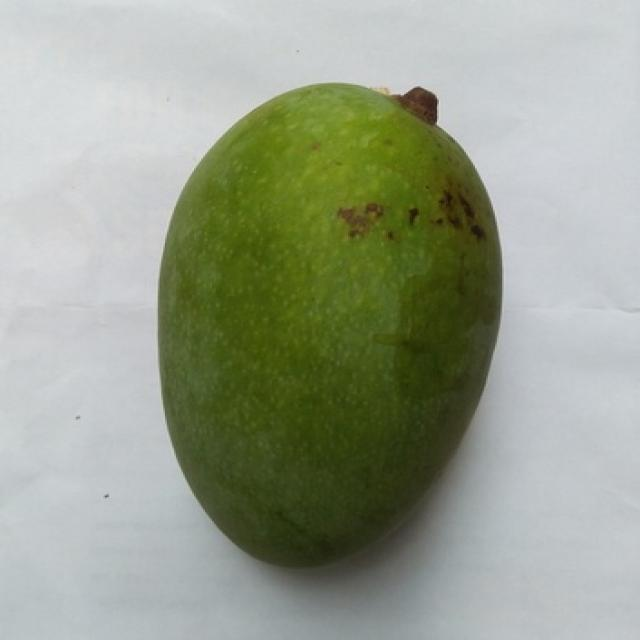Mango: (158, 83, 500, 564)
